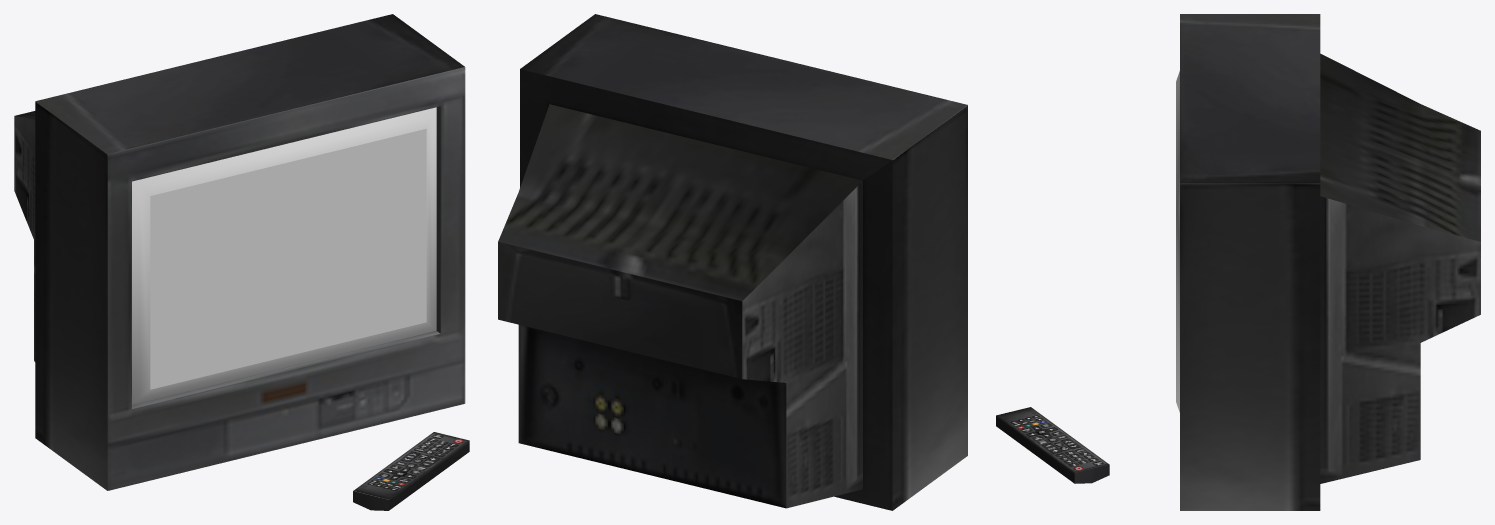
3 renders of one model, left to right at view 1: azimuth 30°, elevation 25°; view 2: azimuth 150°, elevation 25°; view 3: azimuth 270°, elevation 25°, orthographic. The views are drawn at different scales.
Parts seen in each view (by area): view 1: TVCRT, TVCRT.001, TVRemote; view 2: TVCRT; view 3: TVCRT, TVRemote, TVCRT.001.
Boxes of the visible parts, x1=… form: TVCRT: x1=14, y1=14, x2=465, y2=490; TVCRT.001: x1=132, y1=107, x2=436, y2=404; TVRemote: x1=353, y1=432, x2=469, y2=510; TVCRT: x1=498, y1=14, x2=967, y2=510; TVCRT: x1=1180, y1=14, x2=1480, y2=510; TVRemote: x1=996, y1=407, x2=1109, y2=483; TVCRT.001: x1=1176, y1=71, x2=1179, y2=412.
Bounding box in the file's own units: 0.6 × 0.54 × 0.7248.
